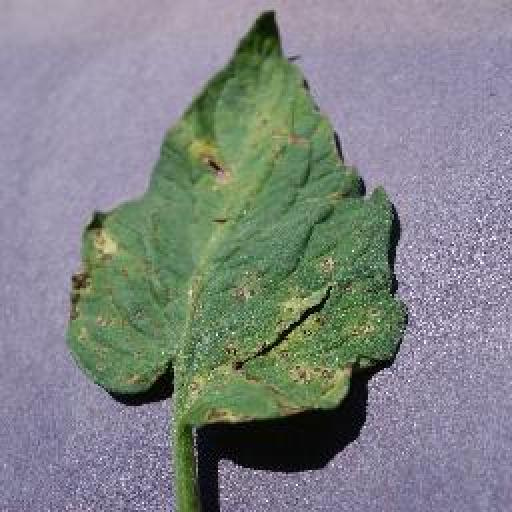Septoria: (67, 8, 412, 432)
